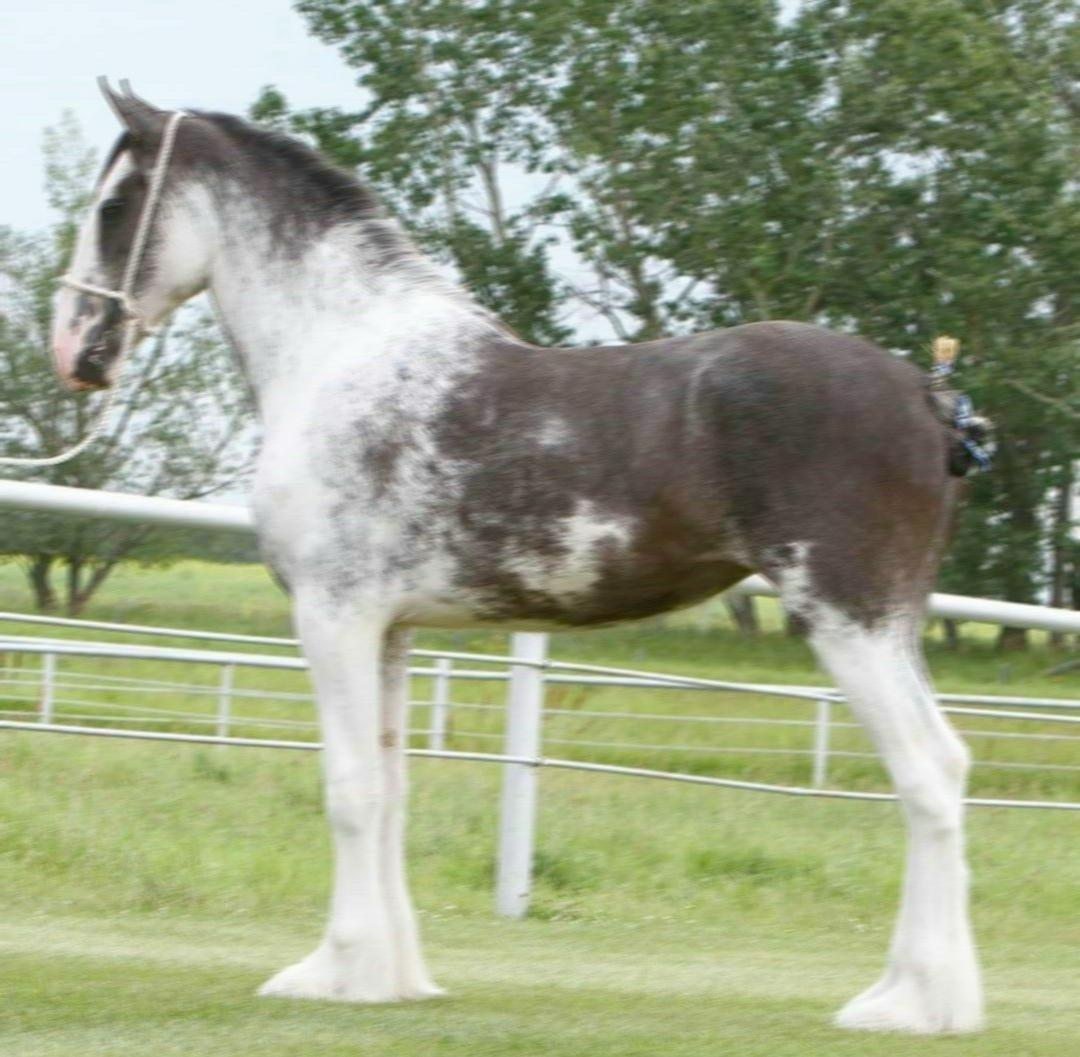horse: (46, 72, 993, 1034)
